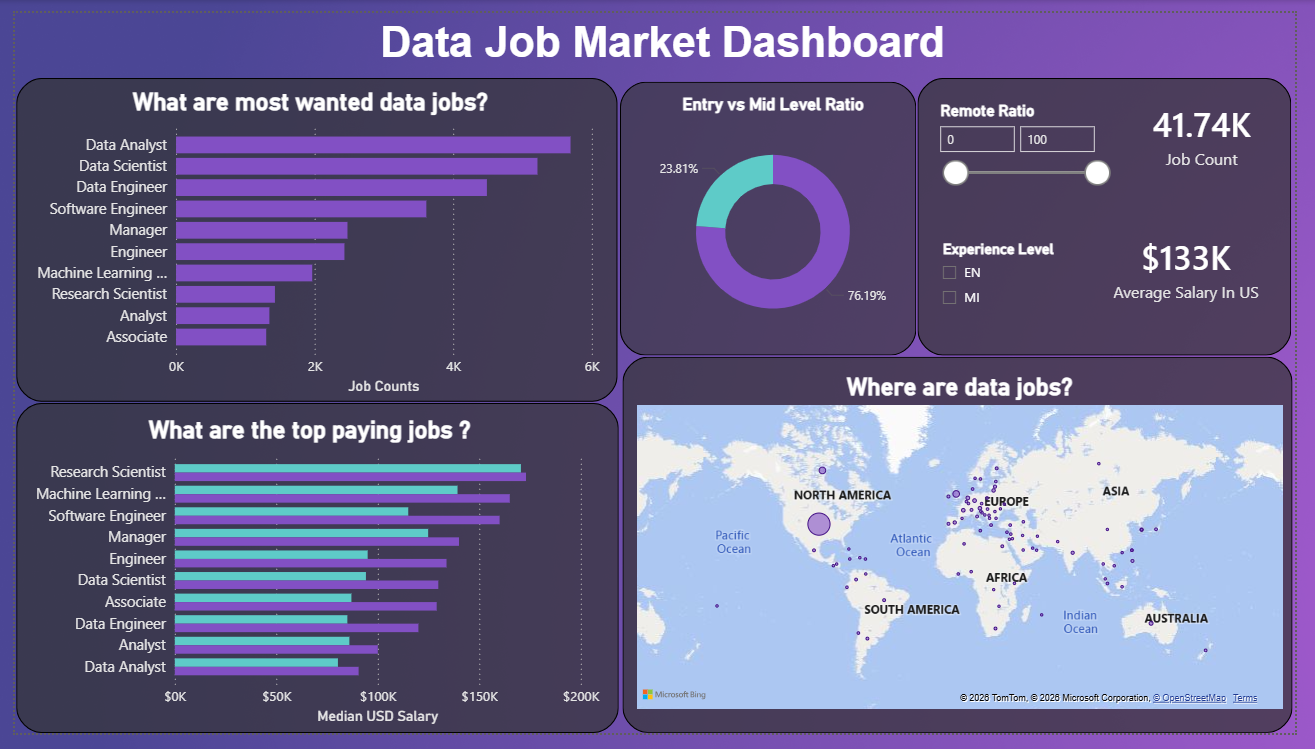

What the dashboard file says about the page in this screenshot:
{"tool":"powerbi","page":{"name":"Executive Overview","canvas":[1280,720],"ordinal":0},"visuals":[{"type":"shape","box":[1.2,65,601.2,323.8],"z":0},{"type":"shape","box":[605,68.8,296.2,273.8],"z":1000},{"type":"shape","box":[902.5,65,373.8,277.5],"z":3000},{"type":"cardVisual","fields":{"Data":["Avg(salaries_cleaned.salary_in_usd)"]},"box":[1062.5,183.8,217.5,143.8],"z":4000},{"type":"shape","box":[607.5,343.8,670,376.2],"z":5000},{"type":"shape","box":[1.2,390,602.5,330],"z":6000},{"type":"clusteredBarChart","title":"What are most wanted data jobs?","fields":{"Category":["salaries_cleaned.job_title"],"Y":["CountNonNull(salaries_cleaned.job_title)"]},"box":[1.2,75,588.8,311.2],"z":7000},{"type":"cardVisual","fields":{"Data":["CountNonNull(salaries_cleaned.job_title)"]},"box":[1093.8,50,186.2,143.8],"z":7500},{"type":"map","title":"Where are data jobs?","fields":{"Size":["CountNonNull(salaries_cleaned.job_title)"],"Category":["salaries_cleaned.company_location"]},"box":[617.5,360,655,341.2],"z":8000},{"type":"textbox","box":[15,0,1265,75],"z":9000},{"type":"donutChart","title":"Entry vs Mid Level Ratio","fields":{"Category":["salaries_cleaned.experience_level"],"Y":["CountNonNull(salaries_cleaned.experience_level)"]},"box":[625,81.2,266.2,256.2],"z":10000},{"type":"slicer","fields":{"Values":["salaries_cleaned.experience_level"]},"box":[915,222.5,188.8,121.2],"z":11000},{"type":"clusteredBarChart","title":"What are the top paying jobs ?","fields":{"Category":["salaries_cleaned.job_title"],"Y":["Median(salaries_cleaned.salary_in_usd)"],"Series":["salaries_cleaned.experience_level"]},"box":[0,402.5,590,313.8],"z":12000},{"type":"slicer","fields":{"Values":["salaries_cleaned.remote_ratio"]},"box":[912.5,83.8,191.2,171.2],"z":13000}]}

Visuals, with their boxes in screenshot pixels (x1, y1, x2, y2), scaled from the page's 1280x720 canvas onto the 1315x749 screenshot:
shape: (1,68,619,404)
shape: (622,72,926,356)
shape: (927,68,1311,356)
cardVisual - Avg(salaries_cleaned.salary_in_usd): (1092,191,1314,341)
shape: (624,358,1312,748)
shape: (1,406,620,748)
"What are most wanted data jobs?" clusteredBarChart: (1,78,606,402)
cardVisual - CountNonNull(salaries_cleaned.job_title): (1124,52,1314,202)
"Where are data jobs?" map: (634,374,1307,729)
textbox: (15,0,1314,78)
"Entry vs Mid Level Ratio" donutChart: (642,84,916,351)
slicer - salaries_cleaned.experience_level: (940,231,1134,358)
"What are the top paying jobs ?" clusteredBarChart: (0,419,606,745)
slicer - salaries_cleaned.remote_ratio: (937,87,1134,265)
